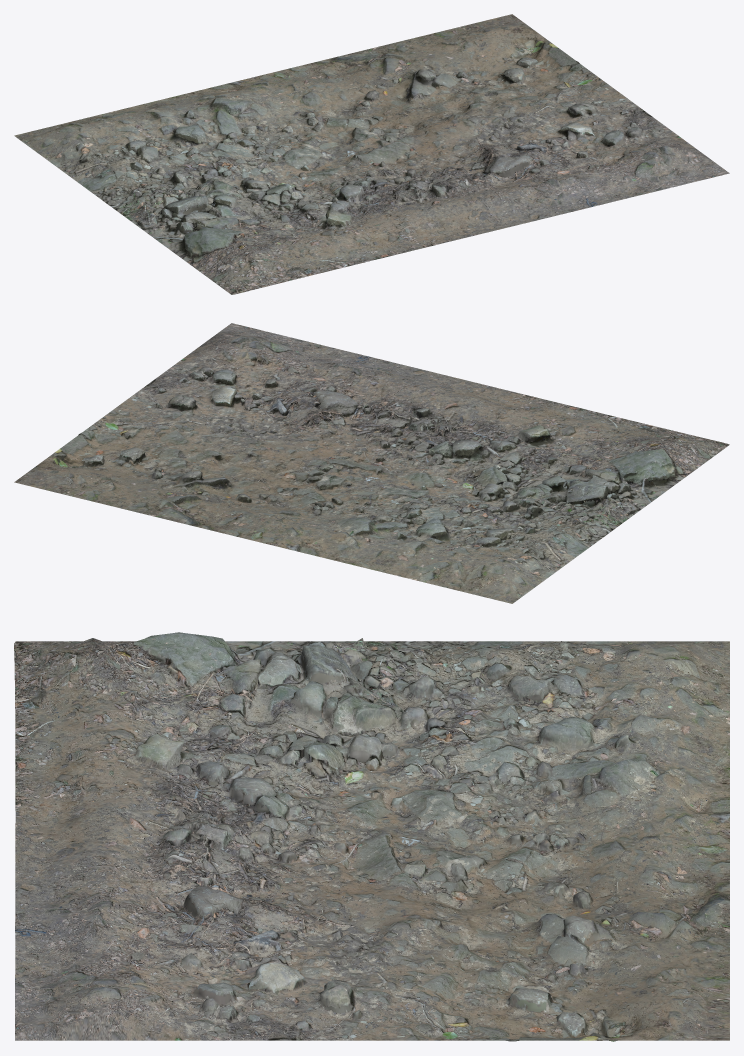
File: sm_Road_02_02.fbx
3 renders of one model, top to bottom at view 1: azimuth 30°, elevation 25°; view 2: azimuth 150°, elevation 25°; view 3: azimuth 270°, elevation 25°, orthographic. The views are drawn at different scales.
Parts seen in each view (by area): view 1: sm_Road_02_02_LOD0; view 2: sm_Road_02_02_LOD0; view 3: sm_Road_02_02_LOD0.
Boxes of the visible parts, box(x1,y1,x2,y2) form: sm_Road_02_02_LOD0: box(14, 14, 729, 294); sm_Road_02_02_LOD0: box(14, 323, 729, 603); sm_Road_02_02_LOD0: box(14, 632, 729, 1041).
Bounding box in the file's own units: 313 × 237 × 17.39.
